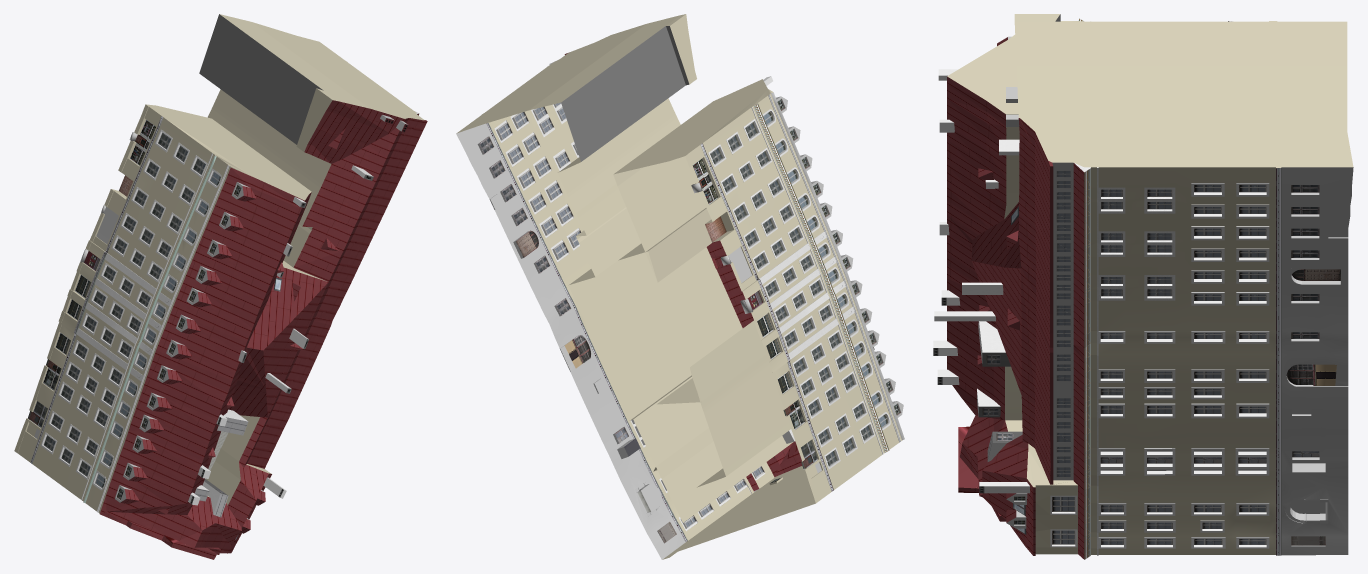
Rendered from Pikk_36.obj.
The picture shows the model from 3 angles, left to right: view 1: azimuth 30°, elevation 25°; view 2: azimuth 150°, elevation 25°; view 3: azimuth 270°, elevation 25°; orthographic projection. The views are drawn at different scales.
Parts seen in each view (by area): view 1: Pikk_36; view 2: Pikk_36; view 3: Pikk_36.
Part boxes in pixels (box(x1,y1,x2,y2)): Pikk_36: box(14, 14, 427, 559); Pikk_36: box(456, 14, 904, 559); Pikk_36: box(933, 14, 1353, 559).
Size of the model in its own units: 45.71 by 56.39 by 35.29.
